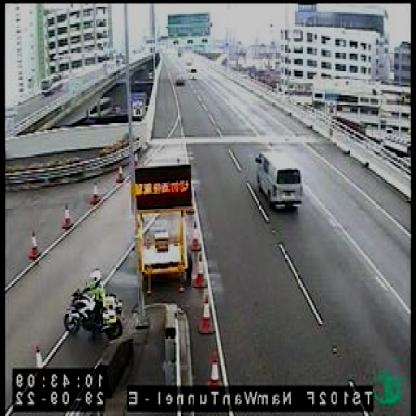Car: (256, 144, 306, 208), (174, 66, 189, 87), (191, 66, 200, 81)
